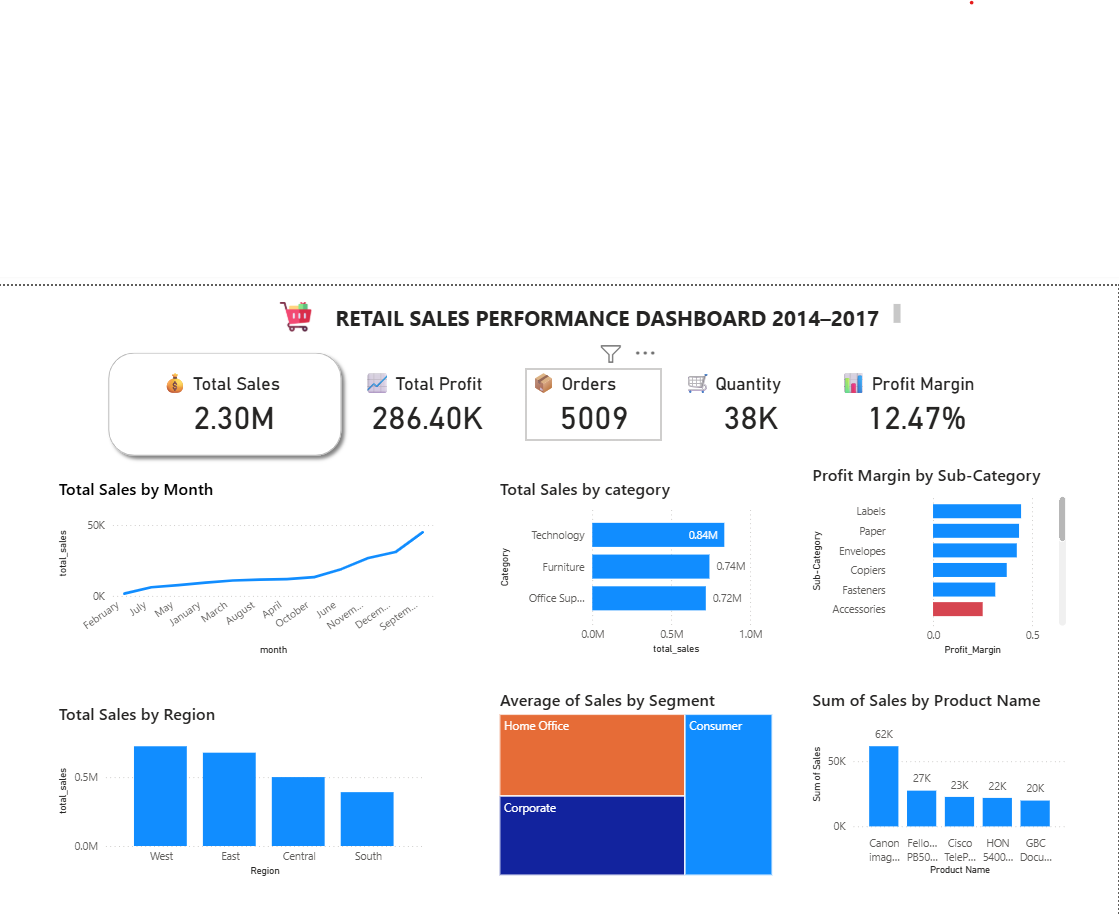

The dashboard page shown, as its layout file describes it:
{"tool":"powerbi","page":{"name":"Page 1","canvas":[1280,720],"ordinal":0},"visuals":[{"type":"shape","box":[117.1,67.1,284.3,135.7],"z":0},{"type":"card","title":"📈 Total Profit","fields":{"Values":["Sample - Superstore.Total_profit"]},"box":[412.9,94.3,155.7,82.9],"z":1000},{"type":"card","title":"💰 Total Sales","fields":{"Values":["Sample - Superstore.total_sales"]},"box":[181.4,94.3,177.1,82.9],"z":2000},{"type":"card","title":"📦 Orders","fields":{"Values":["Sample - Superstore.Total_Orders"]},"box":[602.9,94.3,155.7,82.9],"z":3000},{"type":"card","title":"🛒 Quantity","fields":{"Values":["Sample - Superstore.Total_Qty"]},"box":[778.6,94.3,164.3,82.9],"z":4000},{"type":"card","title":"📊 Profit Margin","fields":{"Values":["Sample - Superstore.Profit_Margin"]},"box":[957.1,94.3,185.7,82.9],"z":5000},{"type":"lineChart","title":"Total Sales by Month","fields":{"Category":["Sample - Superstore.month"],"Y":["Sample - Superstore.total_sales"]},"box":[64.3,218.6,438.6,208.6],"z":6000},{"type":"barChart","title":"Total Sales by category","fields":{"Category":["Sample - Superstore.Category"],"Y":["Sample - Superstore.total_sales"]},"box":[568.6,218.6,321.4,207.1],"z":7000},{"type":"clusteredBarChart","title":"Profit Margin by Sub-Category","fields":{"Y":["Sample - Superstore.Profit_Margin"],"Category":["Sample - Superstore.Sub-Category"]},"box":[925.7,202.9,300,224.3],"z":8000},{"type":"clusteredColumnChart","title":"Total Sales by Region","fields":{"Category":["Sample - Superstore.Region"],"Y":["Sample - Superstore.total_sales"]},"box":[64.3,475.7,427.1,204.3],"z":9000},{"type":"treemap","fields":{"Group":["Sample - Superstore.Segment"],"Values":["Avg(Sample - Superstore.Sales)"]},"box":[568.6,460,321.4,218.6],"z":10000},{"type":"columnChart","fields":{"Category":["Sample - Superstore.Product Name"],"Y":["Sum(Sample - Superstore.Sales)"]},"box":[925.7,460,300,218.6],"z":11000},{"type":"textbox","box":[364,16,672,36],"z":12000},{"type":"image","box":[315.7,17.1,48.6,35.7],"z":13000}]}

Visuals, with their boxes on the page's 1280x720 design canvas (x1, y1, x2, y2). These are canvas units, not pixel positions in the 1119x915 screenshot, which may show the page scaled, cropped or inside an application window:
shape: box=[117, 67, 401, 203]
"📈 Total Profit" card: box=[413, 94, 569, 177]
"💰 Total Sales" card: box=[181, 94, 358, 177]
"📦 Orders" card: box=[603, 94, 759, 177]
"🛒 Quantity" card: box=[779, 94, 943, 177]
"📊 Profit Margin" card: box=[957, 94, 1143, 177]
"Total Sales by Month" lineChart: box=[64, 219, 503, 427]
"Total Sales by category" barChart: box=[569, 219, 890, 426]
"Profit Margin by Sub-Category" clusteredBarChart: box=[926, 203, 1226, 427]
"Total Sales by Region" clusteredColumnChart: box=[64, 476, 491, 680]
treemap - Sample - Superstore.Segment x Avg(Sample - Superstore.Sales): box=[569, 460, 890, 679]
columnChart - Sample - Superstore.Product Name x Sum(Sample - Superstore.Sales): box=[926, 460, 1226, 679]
textbox: box=[364, 16, 1036, 52]
image: box=[316, 17, 364, 53]
